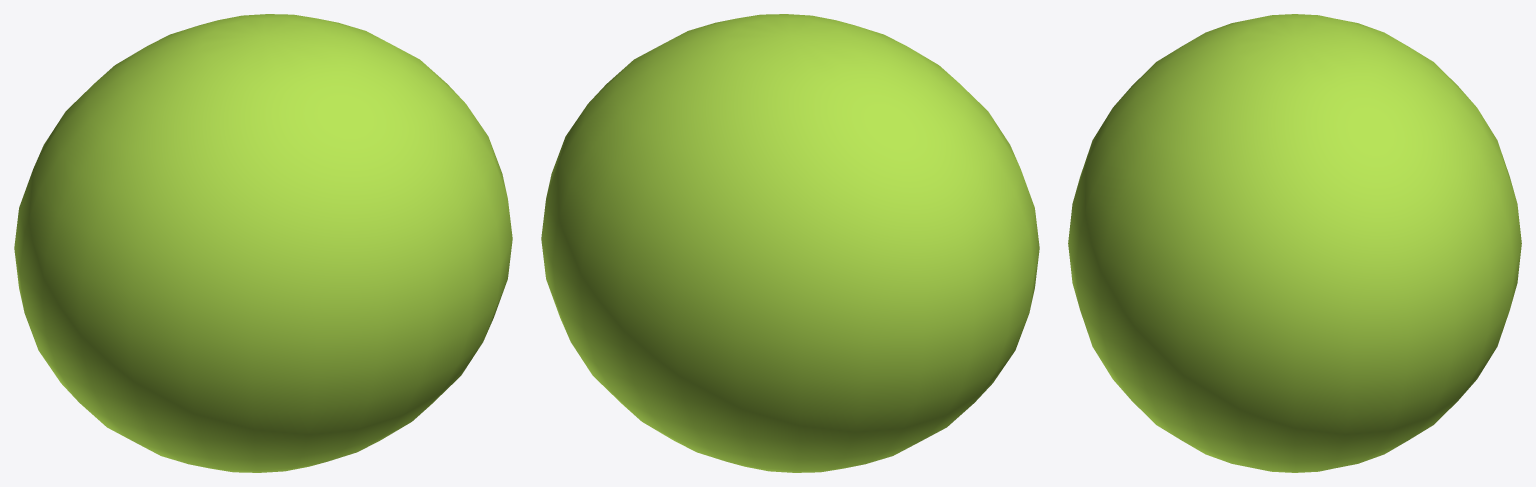
File: Limon.fbx
3 views of the same model, side by side, from view 1: azimuth 30°, elevation 25°; view 2: azimuth 150°, elevation 25°; view 3: azimuth 270°, elevation 25° (orthographic).
Visible parts, largest first — view 1: Limon; view 2: Limon; view 3: Limon.
Boxes of the visible parts, x1=… form: Limon: x1=14, y1=14, x2=512, y2=472; Limon: x1=541, y1=14, x2=1039, y2=472; Limon: x1=1068, y1=14, x2=1521, y2=472.
Bounding box in the file's own units: 52.14 × 46.61 × 46.93.
